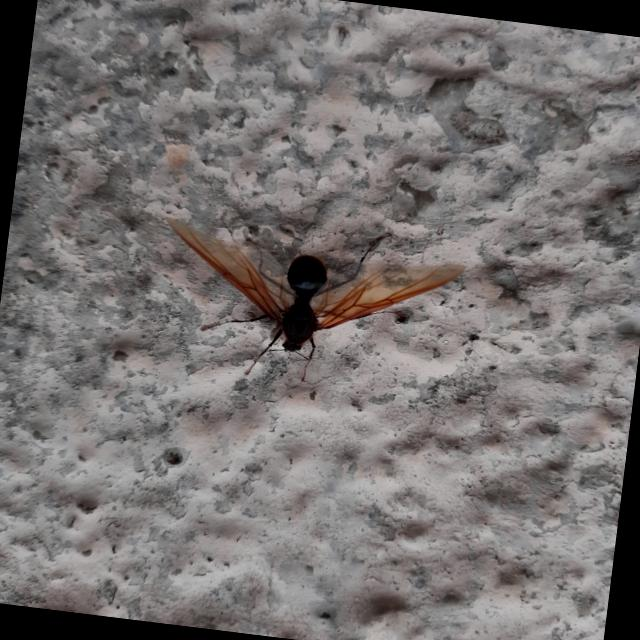Alive-Male-Alate: (147, 205, 468, 400)
